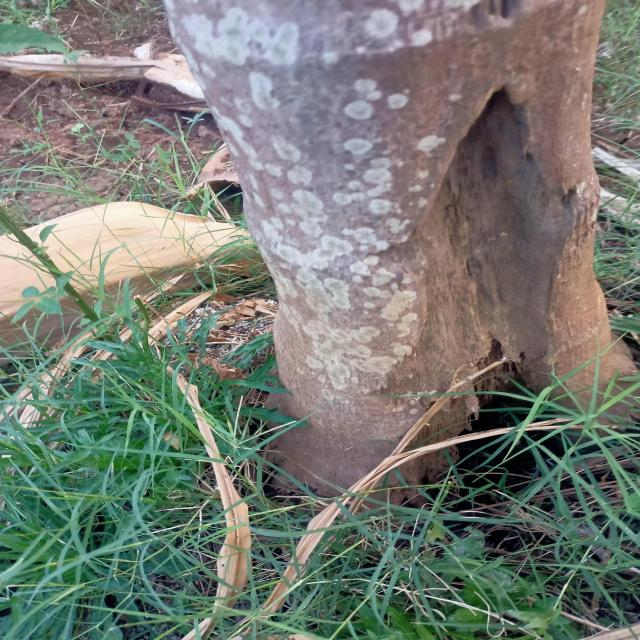Stem_Cracking: (257, 123, 624, 505)
